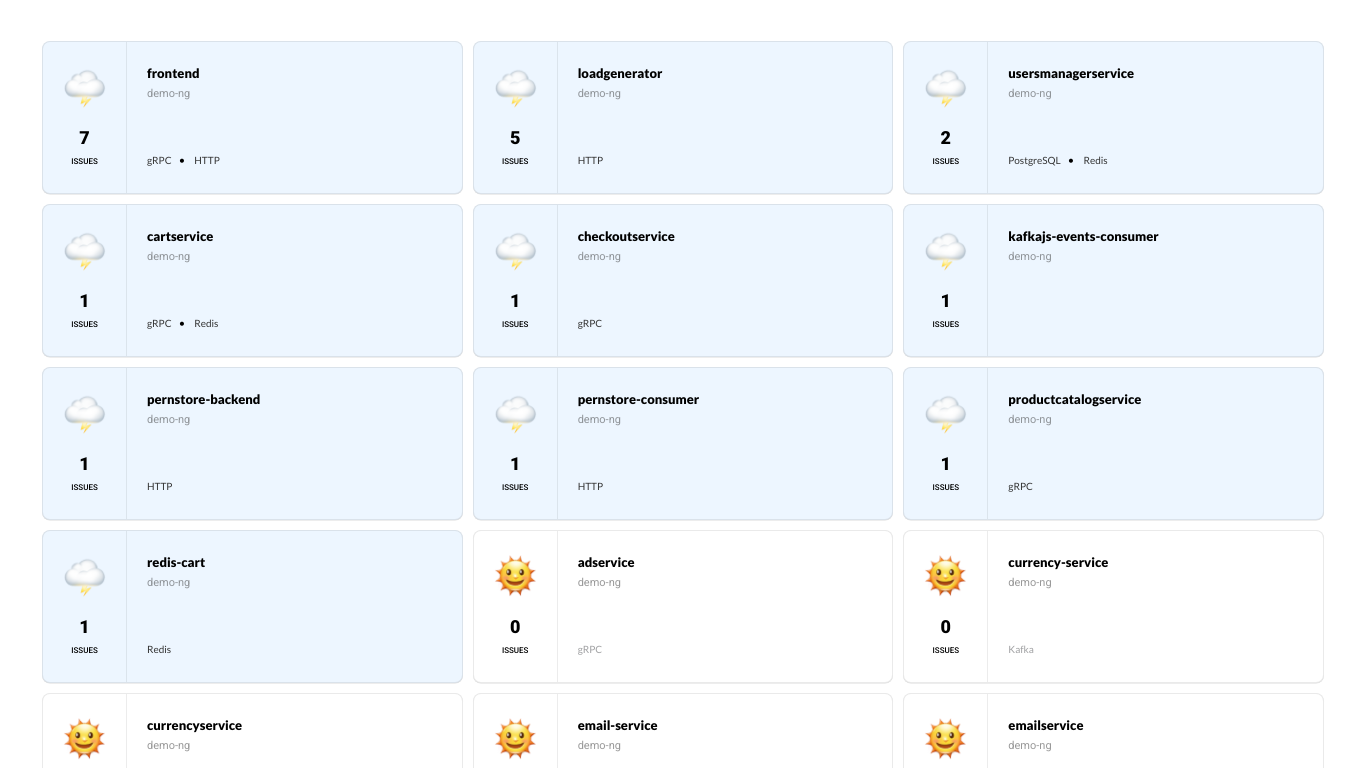
Test: Home page › Drawer Navigation › Click Previous
The width and height of the screenshot is (1366, 768).
Click the element with test id "fc5b6163a805d9e1" at (252, 118), box [42,41,463,194]
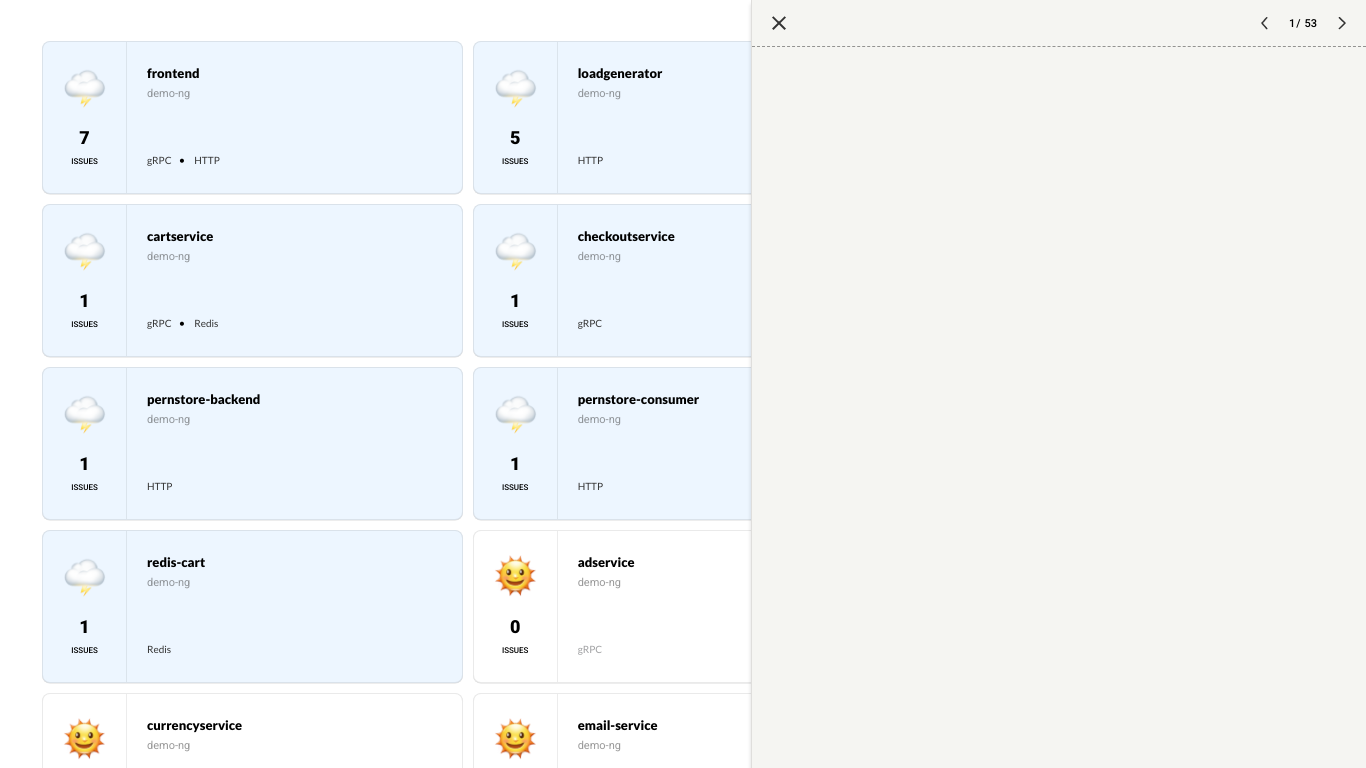
Click the picture with test id "drawer-navigation-btn-prev" at (1264, 23), box [1261,16,1268,30]
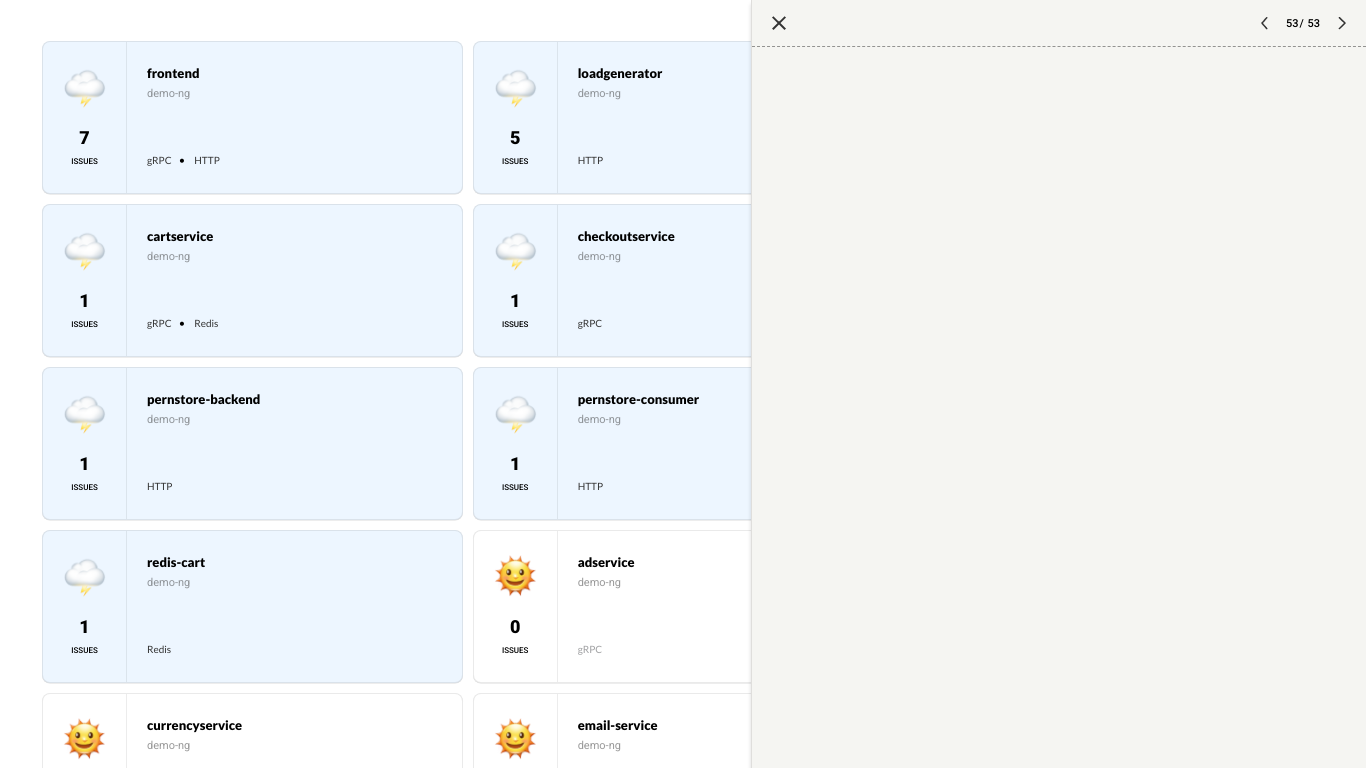
Check: the text with test id "drawer-navigation-current-index" reads "53", box [1286,16,1298,30]
